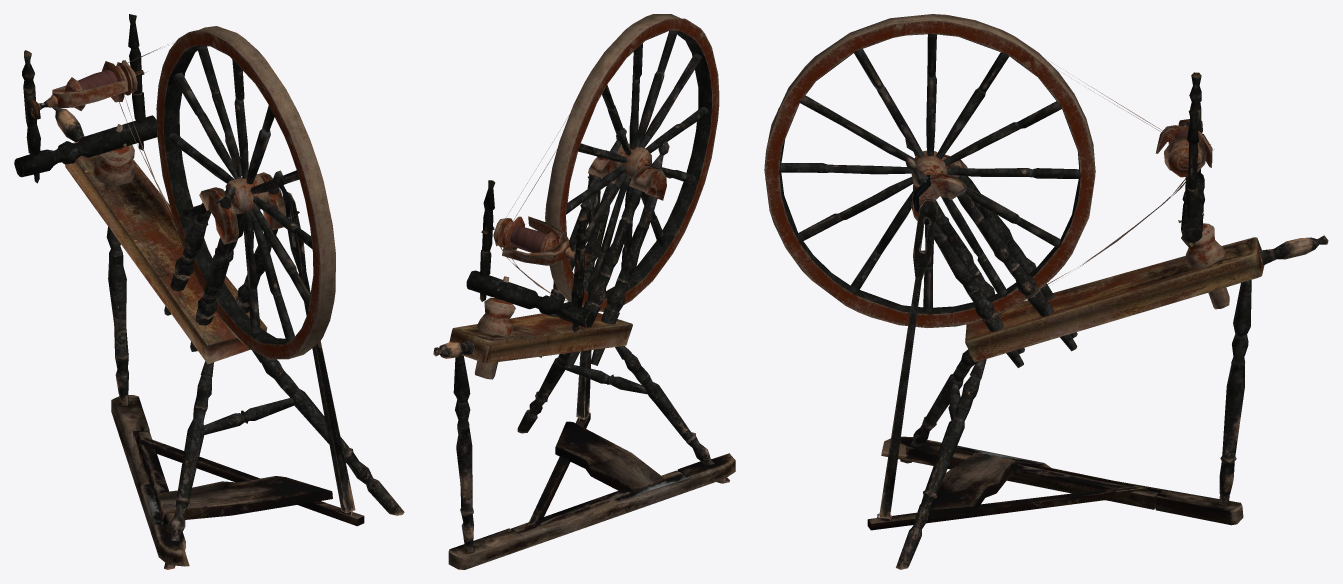
File: spinning_wheel_01.glb
3 renders of one model, left to right at view 1: azimuth 30°, elevation 25°; view 2: azimuth 150°, elevation 25°; view 3: azimuth 270°, elevation 25°, orthographic. The views are drawn at different scales.
Visible parts, largest first — view 1: spinning_wheel_01; view 2: spinning_wheel_01; view 3: spinning_wheel_01.
Boxes of the visible parts, left/top/right/bottom form: spinning_wheel_01: left=14, top=14, right=404, bottom=569; spinning_wheel_01: left=433, top=14, right=735, bottom=569; spinning_wheel_01: left=764, top=14, right=1328, bottom=569.
Size of the model in its own units: 0.4867 by 0.9657 by 1.02.
Materials: 1 (1 with a texture image).
